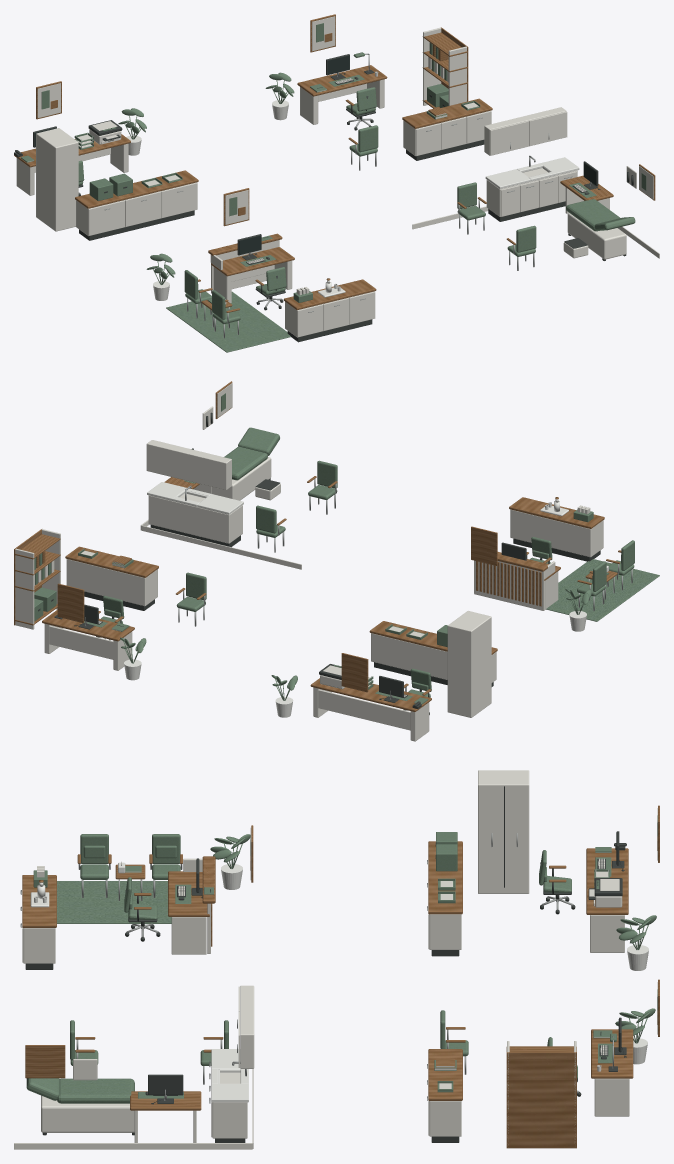
The model's file is consultation.glb.
3 views of the same model, one above another, from view 1: azimuth 30°, elevation 25°; view 2: azimuth 150°, elevation 25°; view 3: azimuth 270°, elevation 25° (orthographic). The views are drawn at different scales.
Visible parts, largest first — view 1: Reception_Furnishings, Follow_Furnishings, Review_Furnishings, Wall_Mounted_Supply, Exam couch plinth, Exam couch upholstered seat, Reception_Wall_Artwork, Review_Wall_Artwork, Follow_Wall_Artwork, Cabinet carcass, Countertop, Cabinet door (+3 smaller); view 2: Follow_Furnishings, Review_Furnishings, Reception_Furnishings, Cabinet carcass, Wall_Mounted_Supply, Exam couch plinth, North coved skirting, Review_Wall_Artwork, Follow_Wall_Artwork, Reception_Wall_Artwork, Exam couch upholstered seat, Exam couch raised headrest (+1 smaller); view 3: Follow_Furnishings, Reception_Furnishings, Review_Furnishings, Exam couch plinth, Exam couch upholstered seat, East coved skirting, Cabinet carcass, Wall_Mounted_Supply, Wall_Mounted_Artwork, Oak worktop, Consultation workstation display, Countertop.001 (+2 smaller).
Part boxes in pixels (x1,y1,x2,y2): Reception_Furnishings: (146, 233, 376, 352); Follow_Furnishings: (14, 108, 198, 240); Review_Furnishings: (265, 27, 492, 170); Wall_Mounted_Supply: (484, 107, 567, 155); Exam couch plinth: (567, 213, 626, 259); Exam couch upholstered seat: (566, 199, 619, 231); Reception_Wall_Artwork: (223, 188, 249, 226); Review_Wall_Artwork: (310, 14, 335, 52); Follow_Wall_Artwork: (36, 81, 61, 119); Cabinet carcass: (486, 168, 577, 216); Countertop: (485, 169, 530, 188); Cabinet door: (500, 185, 519, 216); Follow_Furnishings: (271, 611, 497, 741); Review_Furnishings: (14, 529, 206, 680); Reception_Furnishings: (474, 497, 659, 631); Cabinet carcass: (148, 493, 242, 543); Wall_Mounted_Supply: (146, 440, 231, 490); Exam couch plinth: (211, 457, 271, 500); North coved skirting: (141, 525, 301, 569); Review_Wall_Artwork: (57, 583, 84, 622); Follow_Wall_Artwork: (341, 653, 368, 692); Reception_Wall_Artwork: (471, 526, 497, 565); Exam couch upholstered seat: (224, 446, 267, 480); Exam couch raised headrest: (238, 427, 279, 455); Follow_Furnishings: (427, 770, 656, 970); Reception_Furnishings: (20, 834, 250, 969); Review_Furnishings: (427, 1008, 655, 1148); Exam couch plinth: (41, 1095, 134, 1132); Exam couch upholstered seat: (57, 1078, 134, 1103); East coved skirting: (14, 1143, 252, 1149); Cabinet carcass: (212, 1072, 247, 1138); Wall_Mounted_Supply: (237, 985, 254, 1068); Wall_Mounted_Artwork: (25, 1045, 65, 1078); Oak worktop: (130, 1091, 201, 1110); Consultation workstation display: (148, 1074, 183, 1095); Countertop.001: (211, 1083, 248, 1102).
Size of the model in its own units: 10.92 by 2.1 by 11.01.
7 materials, 2 textured.
